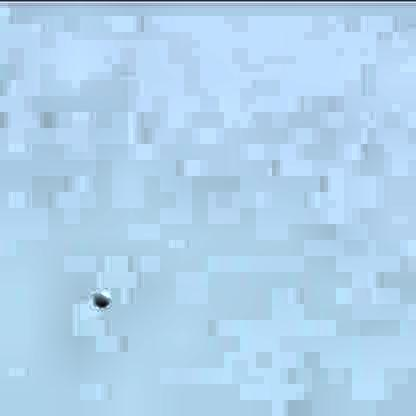golfball: (89, 287, 108, 305)
